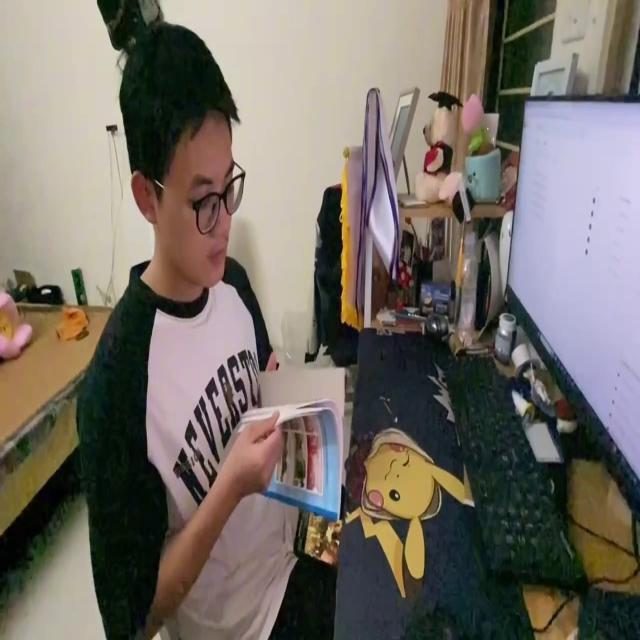book: (233, 354, 346, 520)
laptop: (501, 90, 640, 514)
phone: (294, 500, 340, 570)
student: (80, 17, 333, 640)
